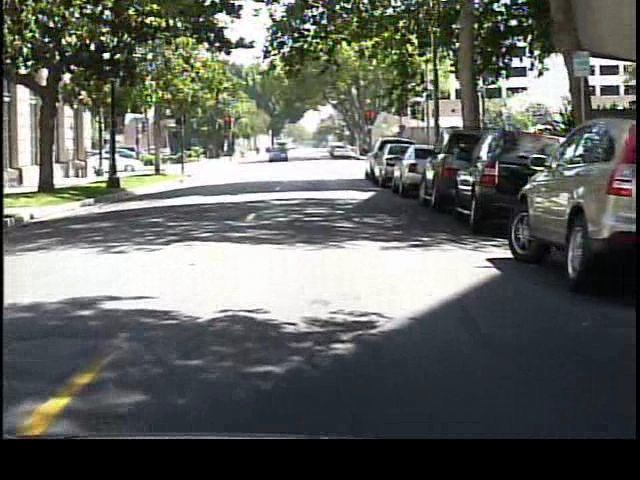person: (237, 141, 250, 165)
